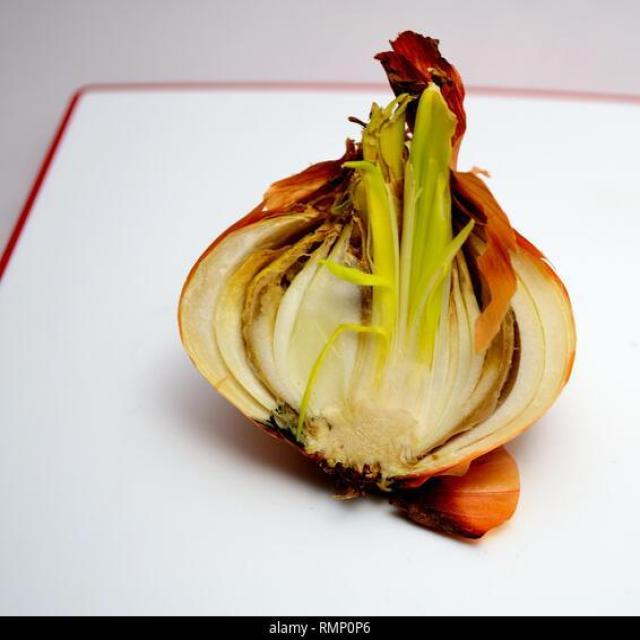Onion: (179, 28, 575, 540)
